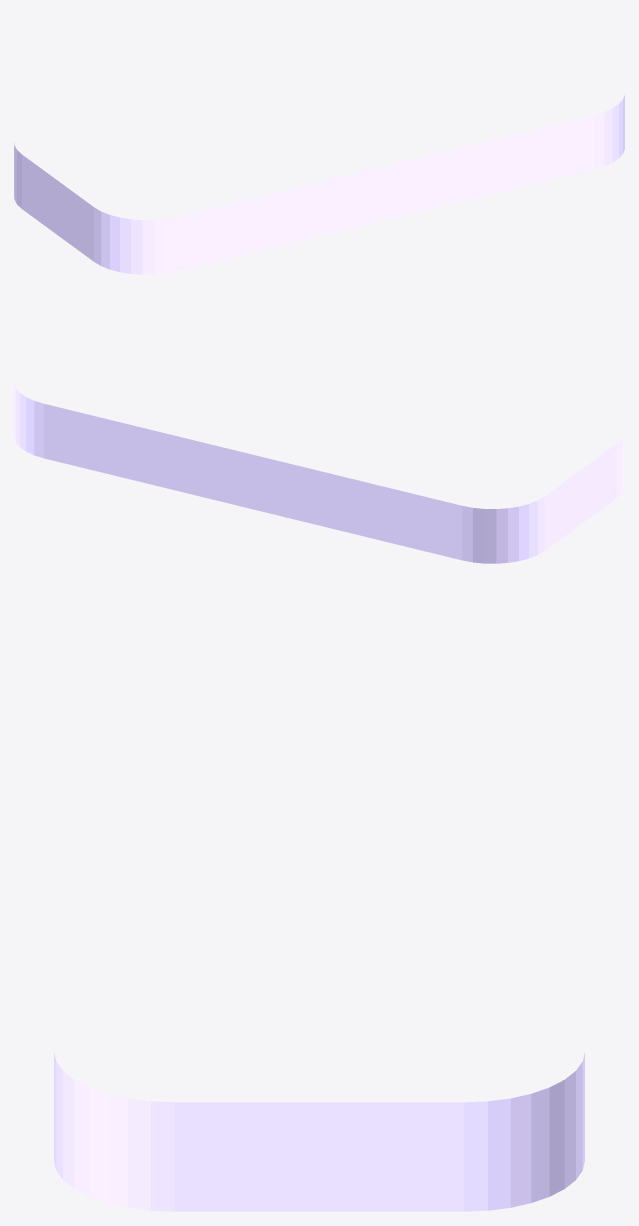
The model's file is ct_btn_setname.glb.
The picture shows the model from 3 angles, top to bottom: view 1: azimuth 30°, elevation 25°; view 2: azimuth 150°, elevation 25°; view 3: azimuth 270°, elevation 25°; orthographic projection. The views are drawn at different scales.
Visible parts, largest first — view 1: btn; view 2: btn; view 3: btn.
Part boxes in pixels (<box>): btn: <box>14,95,624,274</box>; btn: <box>14,384,624,563</box>; btn: <box>54,1052,584,1211</box>.
Size of the model in its own units: 0.5 by 0.05 by 0.22.
